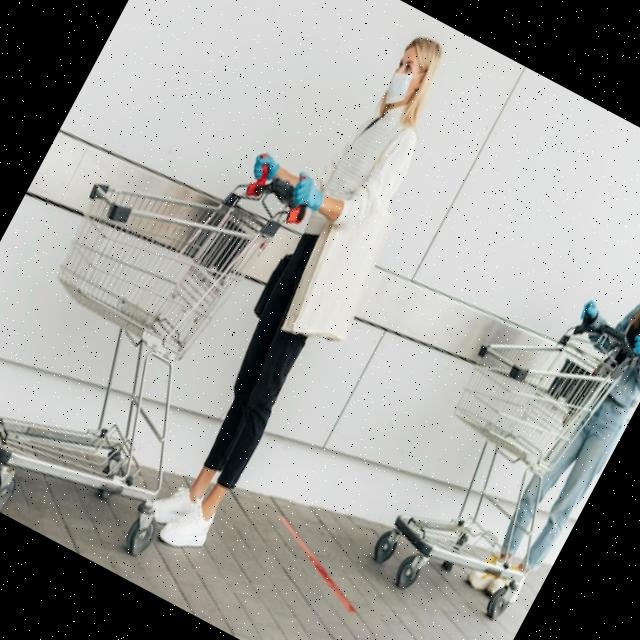Person: (77, 0, 487, 570), (442, 208, 640, 617)
